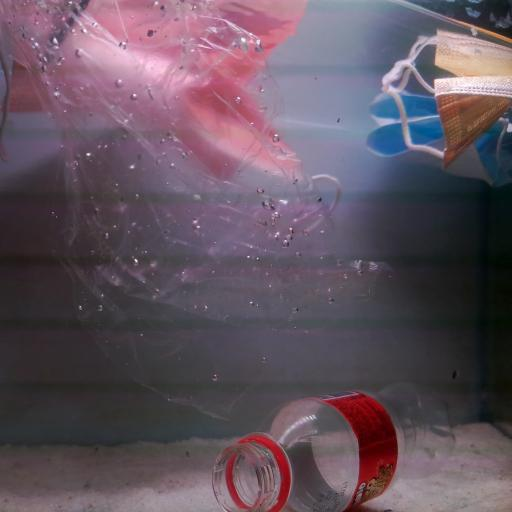mask: (1, 6, 340, 196), (387, 23, 512, 172), (368, 85, 512, 201)
plastic_bag: (16, 0, 374, 381)
plastic_bottle: (208, 384, 457, 512)
